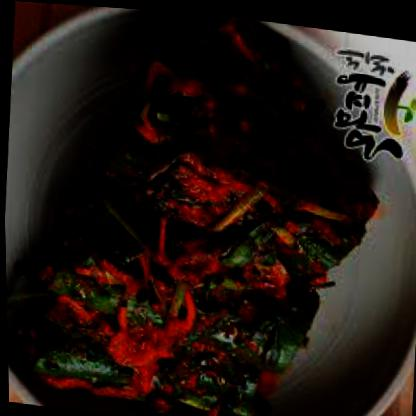cucumber kimchi: (46, 34, 368, 415)
